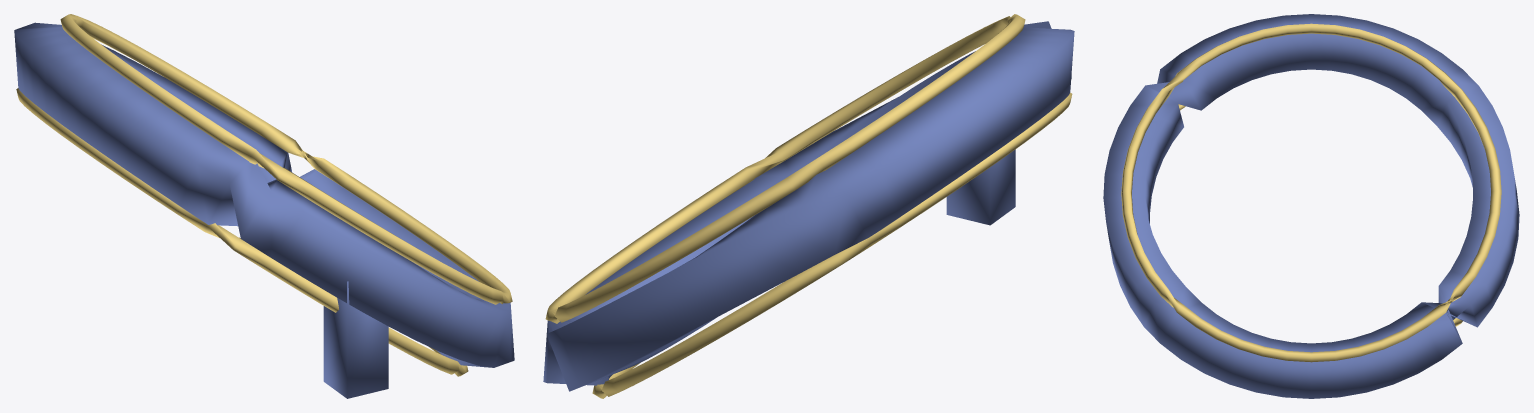
Rendered from acc-pha-biang.glb.
The picture shows the model from 3 angles, left to right: view 1: azimuth 30°, elevation 25°; view 2: azimuth 150°, elevation 25°; view 3: azimuth 270°, elevation 25°; orthographic projection. The views are drawn at different scales.
Visible parts, largest first — view 1: cloth, edge1, edge-1, tail; view 2: cloth, edge1, edge-1, tail; view 3: cloth, edge1.
Part boxes in pixels (box(x1,y1,x2,y2)): cloth: box(14, 22, 514, 367); edge1: box(60, 14, 512, 304); edge-1: box(16, 88, 468, 376); tail: box(323, 281, 388, 398); cloth: box(543, 21, 1074, 391); edge1: box(545, 14, 1025, 323); edge-1: box(592, 92, 1072, 398); tail: box(946, 149, 1015, 225); cloth: box(1103, 14, 1519, 398); edge1: box(1121, 23, 1501, 362).
Size of the model in its own units: 1.83 by 1.54 by 2.25.
